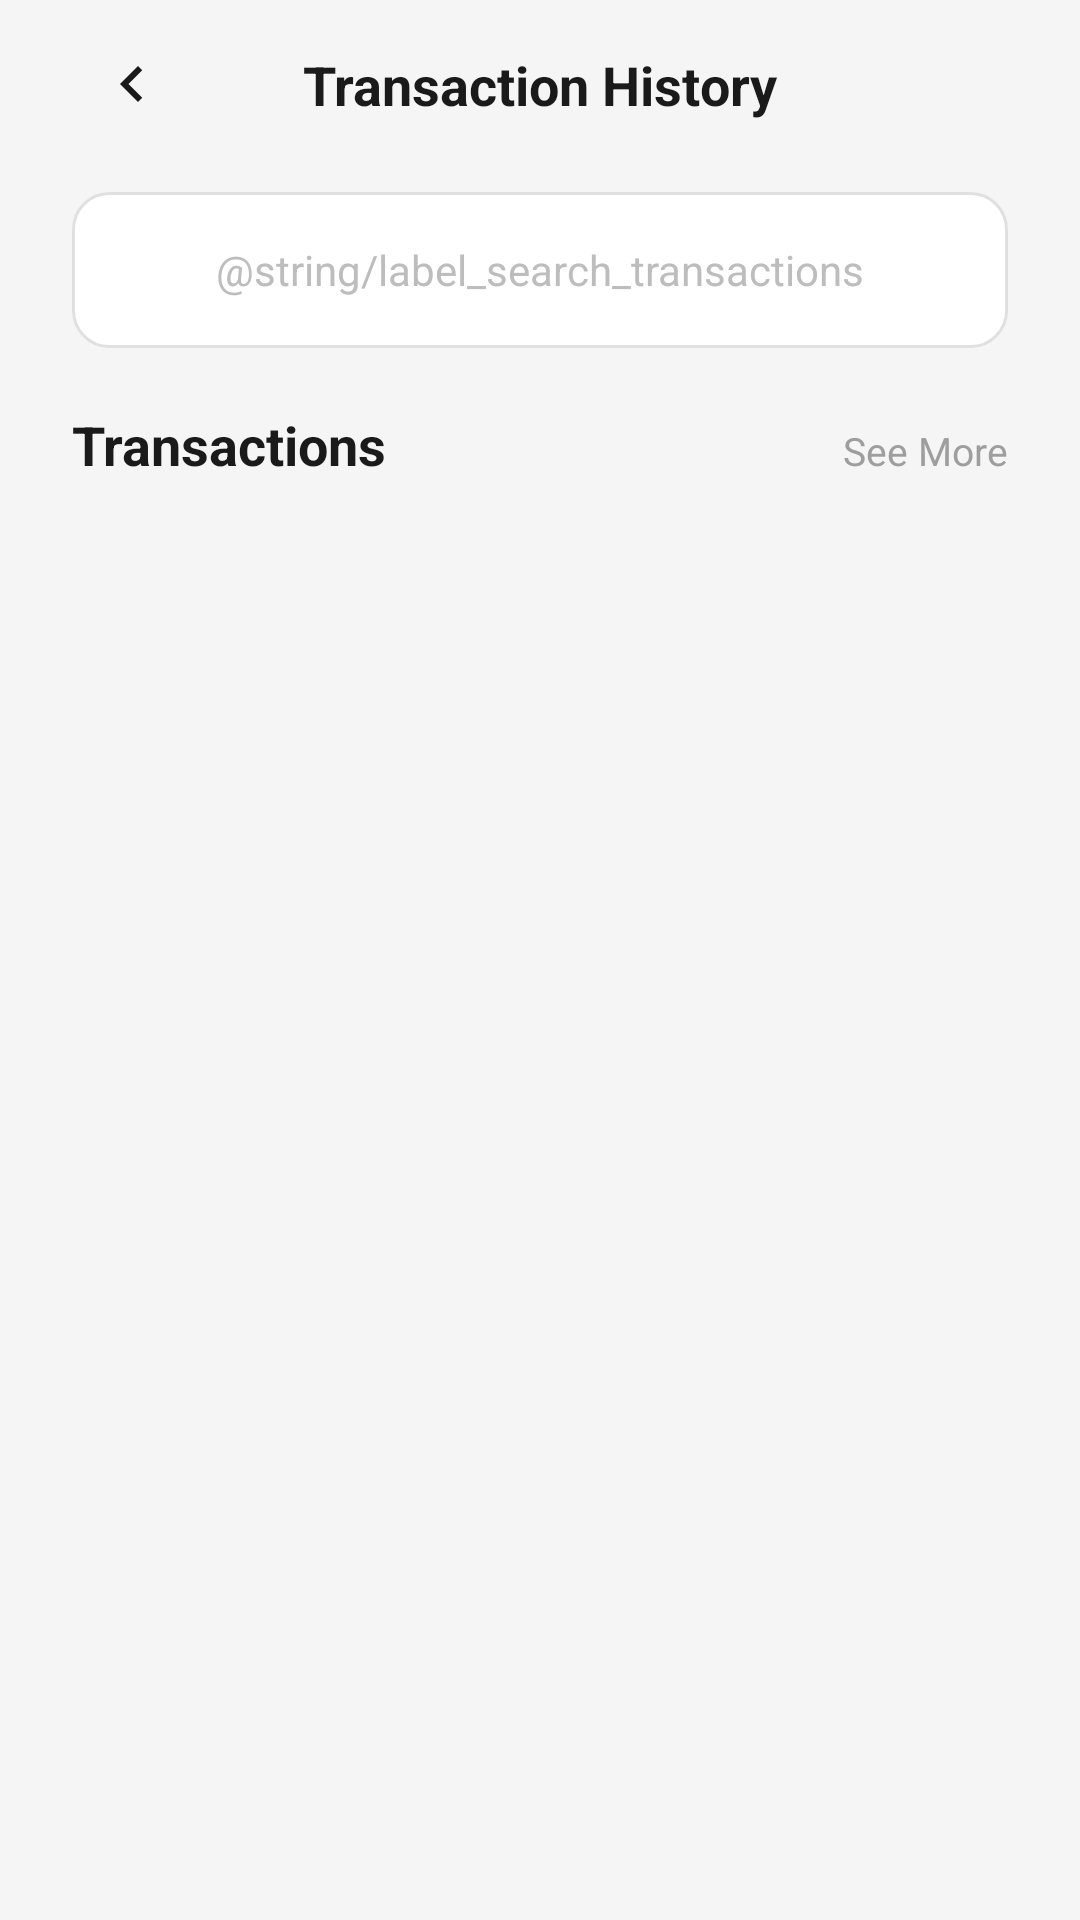

Named icons in this screenshot (1080w x 1920h) and their centers, (x=x, y=y):
Go back: (x=131, y=84)
